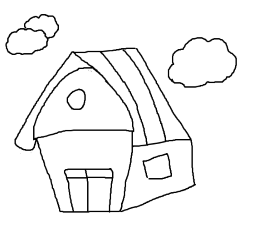clouds: (165, 32, 239, 91), (3, 12, 61, 57)
door: (64, 163, 113, 216)
open_window: (142, 152, 172, 179), (66, 86, 88, 111)
roof: (13, 48, 192, 152)
wall: (35, 124, 139, 217)
